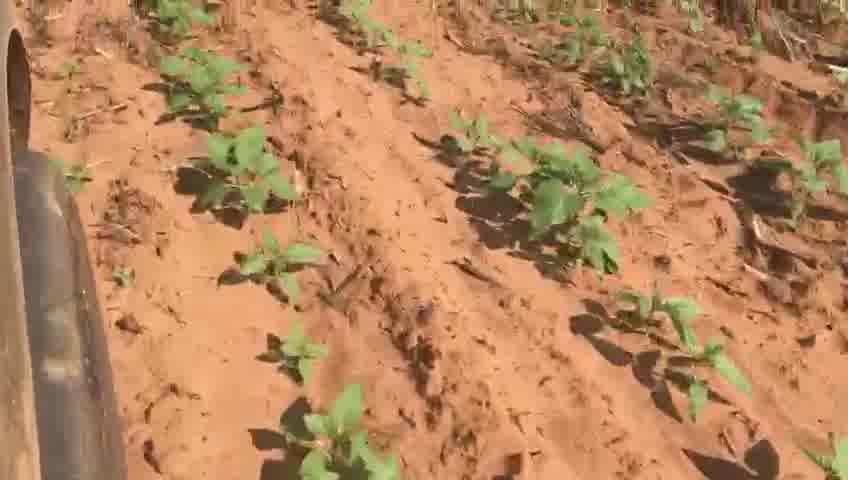sunflower: (524, 164, 654, 270), (260, 387, 403, 476), (173, 136, 302, 222), (645, 325, 753, 421), (486, 137, 590, 221), (221, 235, 327, 309), (156, 47, 246, 130), (772, 124, 836, 231), (582, 285, 698, 341), (688, 85, 763, 166), (260, 317, 330, 393), (447, 105, 500, 161), (393, 50, 442, 107), (360, 31, 408, 86), (337, 5, 384, 42)
